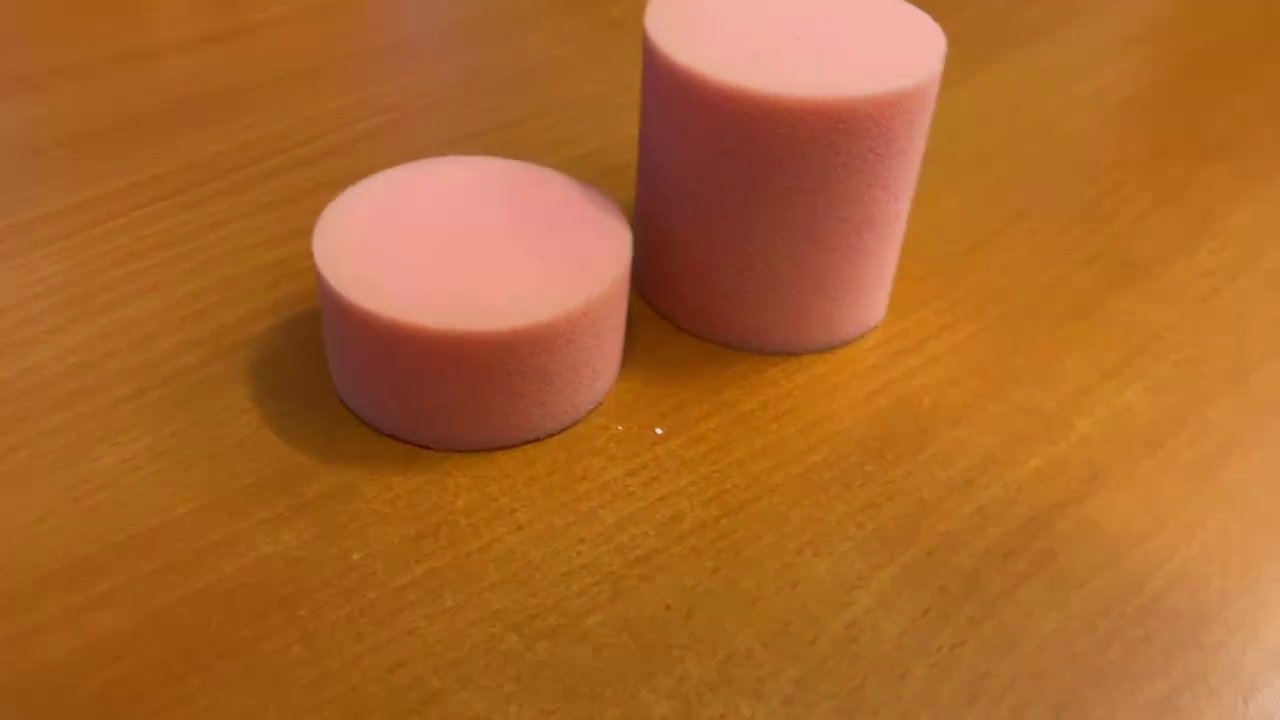Clyinder_short: (301, 151, 640, 457)
Cylinder: (628, 1, 953, 364)
